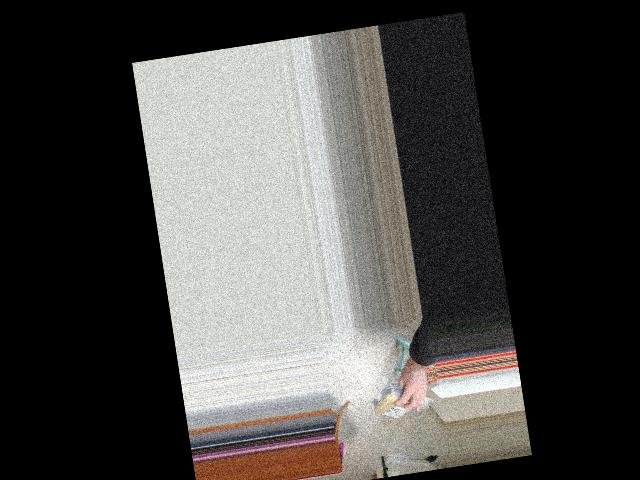cheese: (369, 387, 418, 422)
